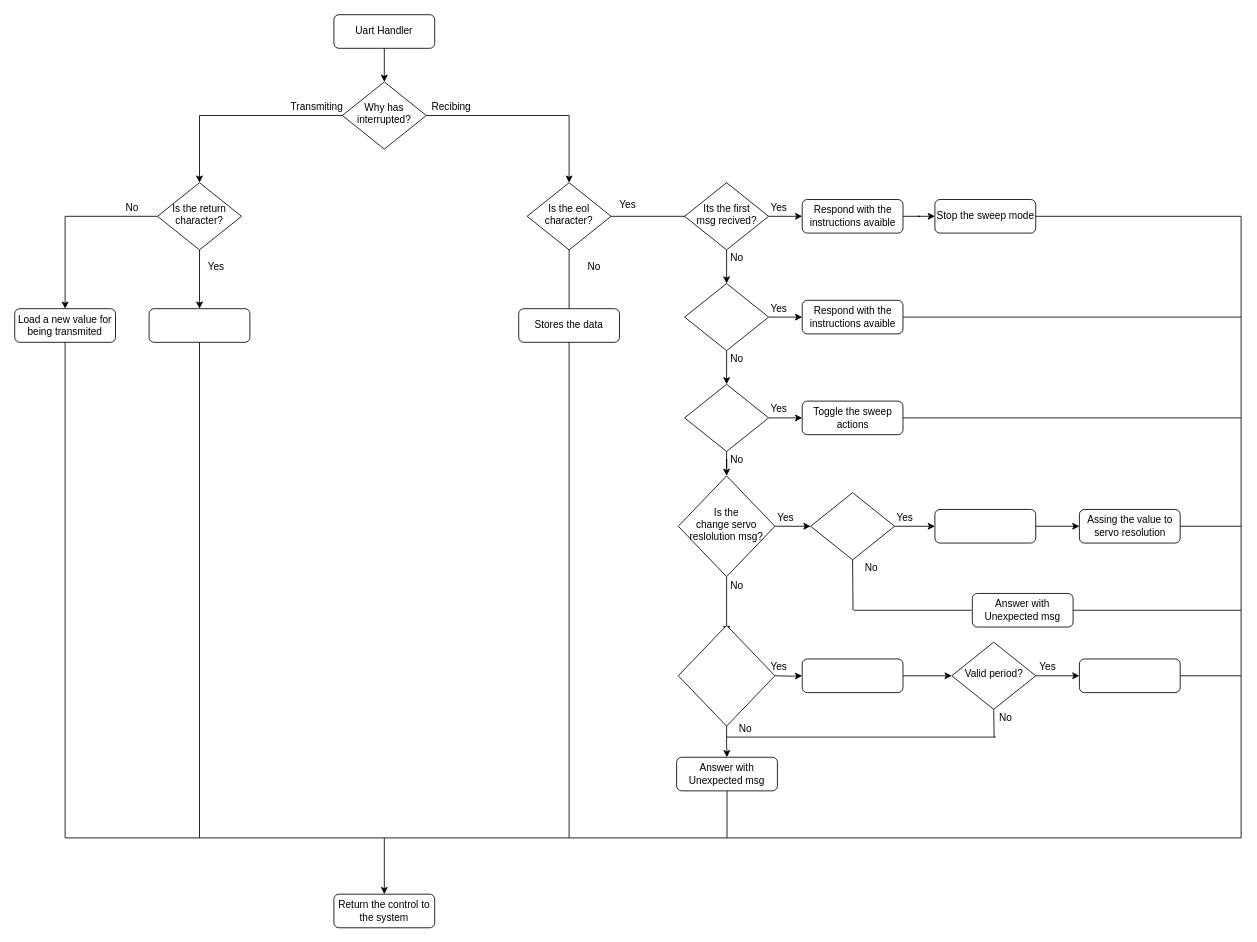
The diagram is 1257 pixels wide and 942 high, and some of its shapes have lost their labels. The shapes that lost their labels are listed below. From the top down, each one's centre as x and y in pixels, then its label:
point 199,325: Tx_completa = 1
point 726,317: Is the help msg?
point 726,417: Is the move msg?
point 852,526: Valid resolution?
point 985,526: Calculate the value
point 726,675: Is the change servo period msg?
point 852,675: Atoi
point 1129,675: Assing the value to servo period
